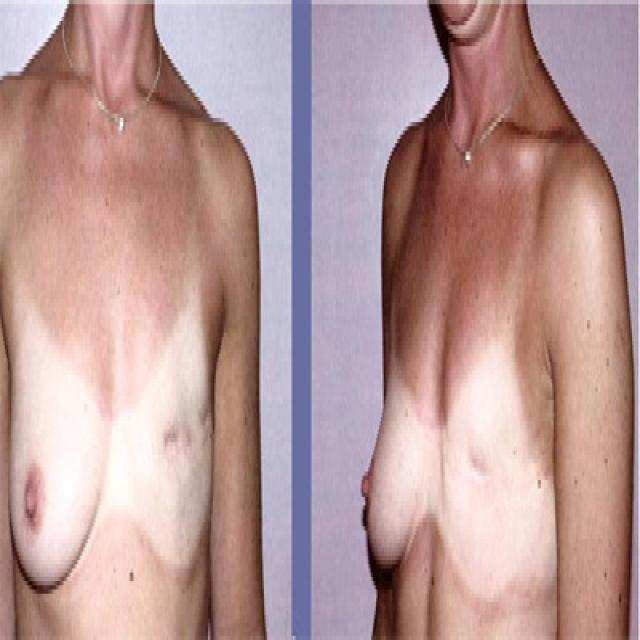Seno herido: (434, 324, 558, 603), (115, 314, 218, 587)
Seno ileso: (5, 315, 112, 621), (357, 324, 432, 608)
